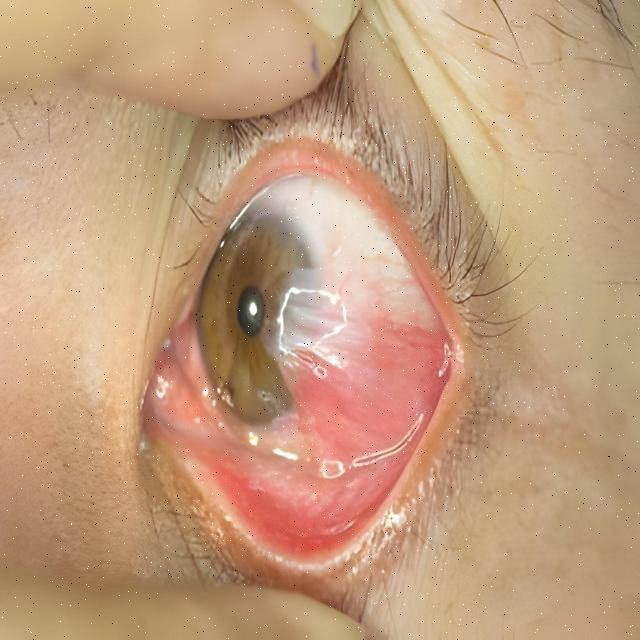Pterygium: (258, 264, 470, 474)
